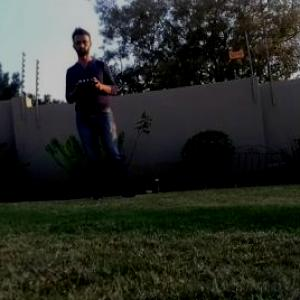follow: (64, 20, 143, 204)
